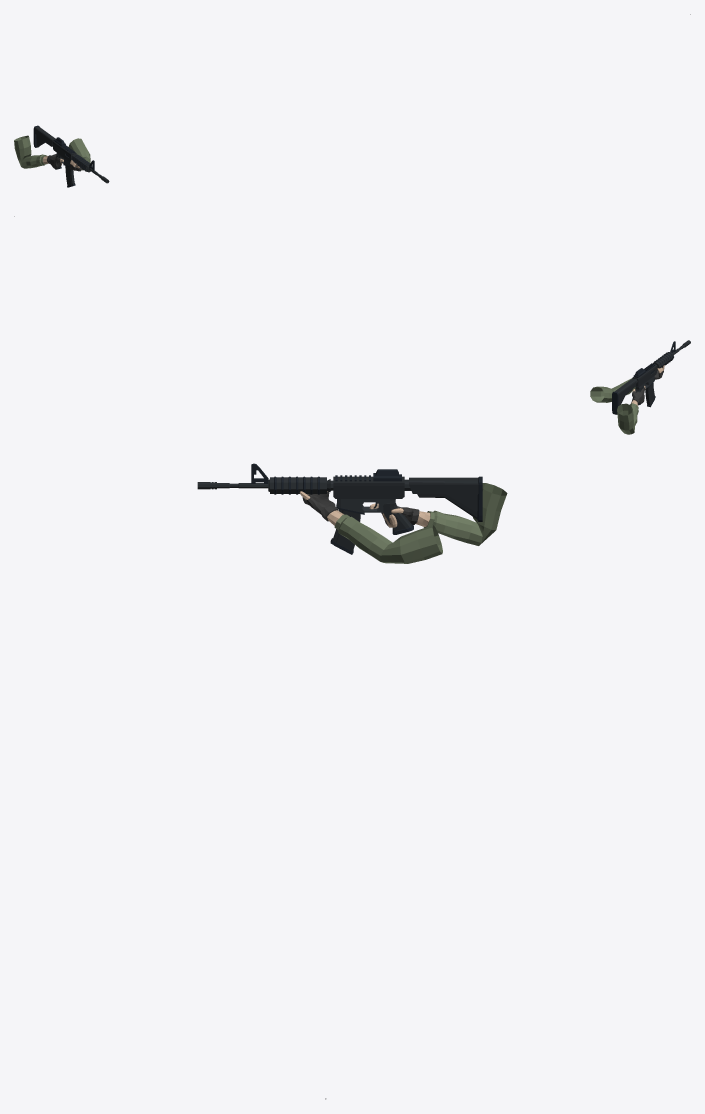
File: fps02.glb
The picture shows the model from 3 angles, top to bottom: view 1: azimuth 30°, elevation 25°; view 2: azimuth 150°, elevation 25°; view 3: azimuth 270°, elevation 25°; orthographic projection. The views are drawn at different scales.
Visible parts, largest first — view 1: ArmModel, AssaultRifle2_1; view 2: AssaultRifle2_1, ArmModel; view 3: AssaultRifle2_1, ArmModel.
Boxes of the visible parts, left/top/right/bottom form: ArmModel: left=14, top=135, right=90, bottom=171; AssaultRifle2_1: left=33, top=125, right=109, bottom=187; AssaultRifle2_1: left=612, top=340, right=690, bottom=414; ArmModel: left=590, top=365, right=664, bottom=434; AssaultRifle2_1: left=197, top=463, right=482, bottom=554; ArmModel: left=299, top=483, right=507, bottom=563.
Bounding box in the file's own units: 1.03 × 0.0717 × 0.2189.
